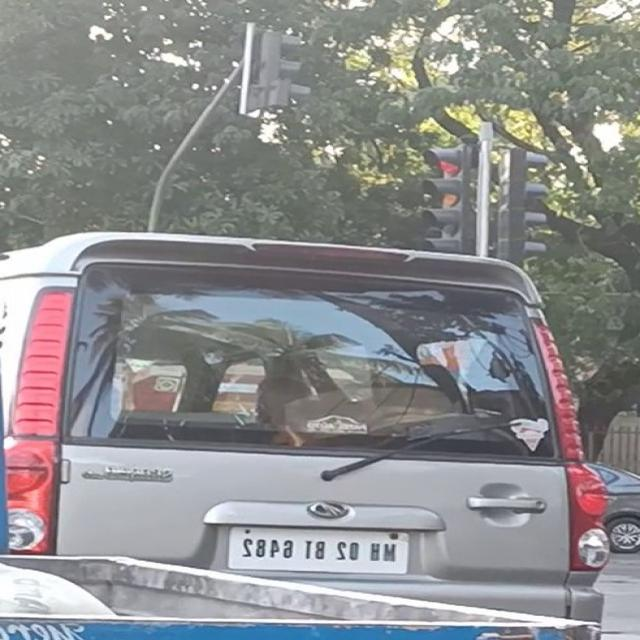license_plate: (219, 519, 417, 581)
